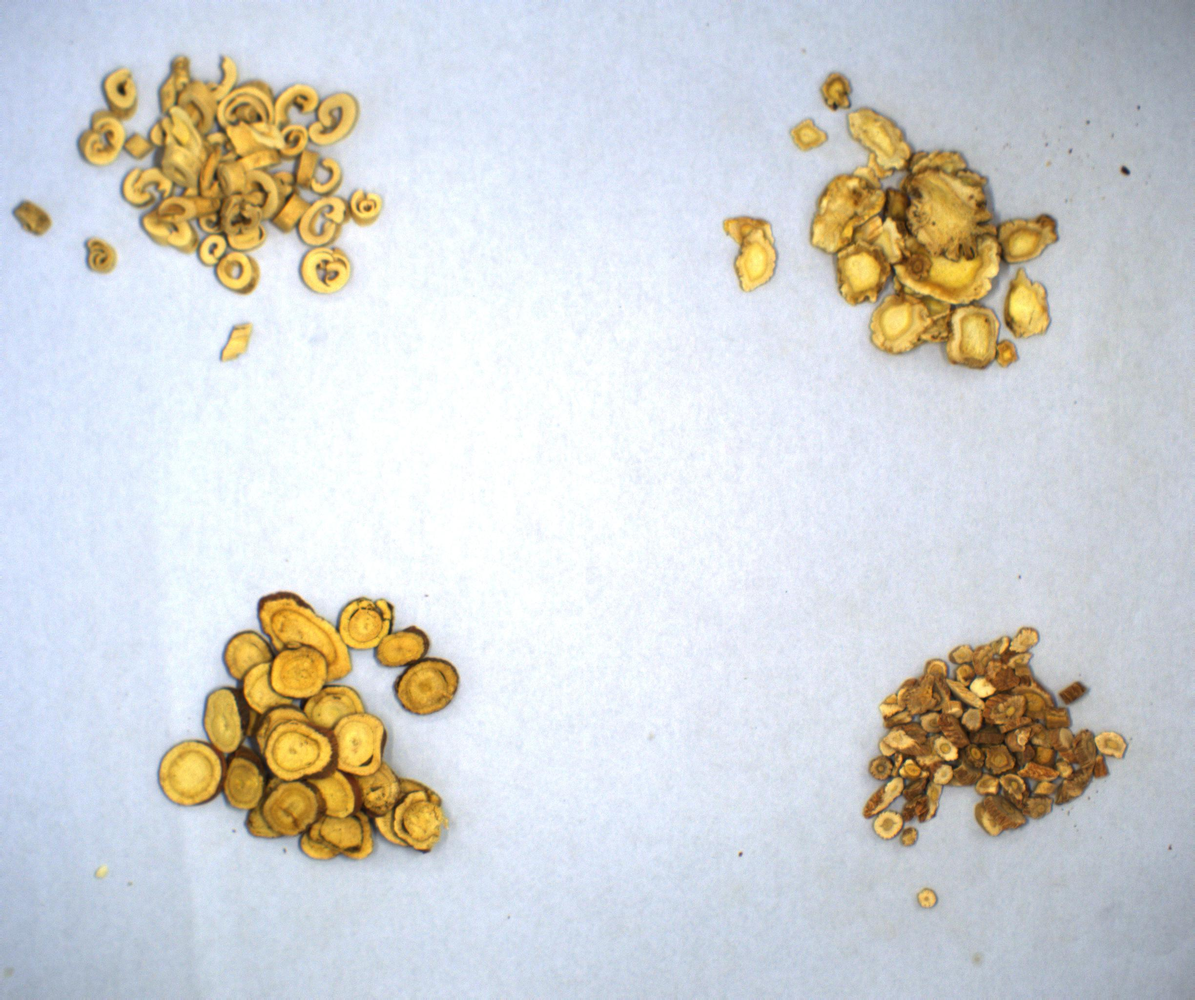baixianpi: (21, 35, 405, 339)
banlangen: (859, 625, 1126, 868)
gancao: (158, 576, 493, 873)
jiegeng: (715, 85, 1066, 398)
